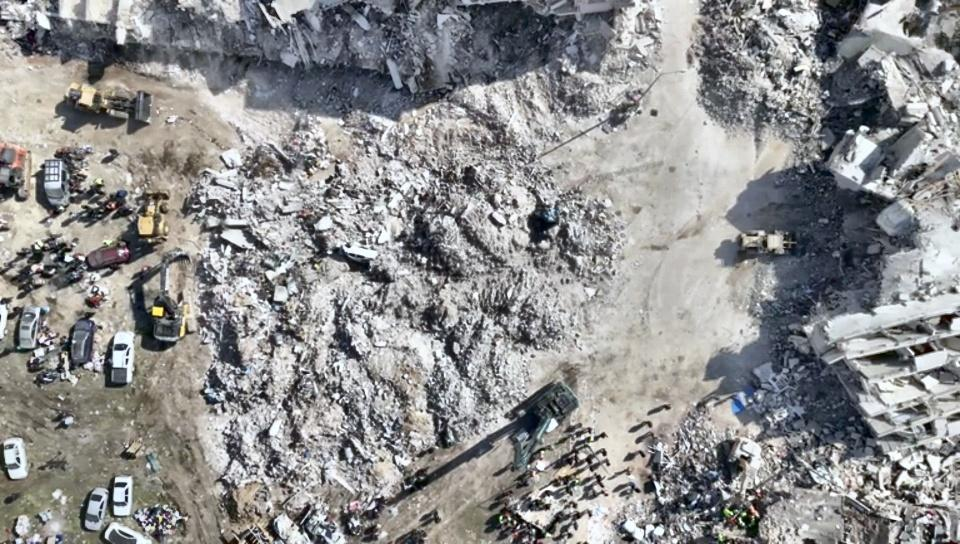kapali: (192, 59, 631, 184)
